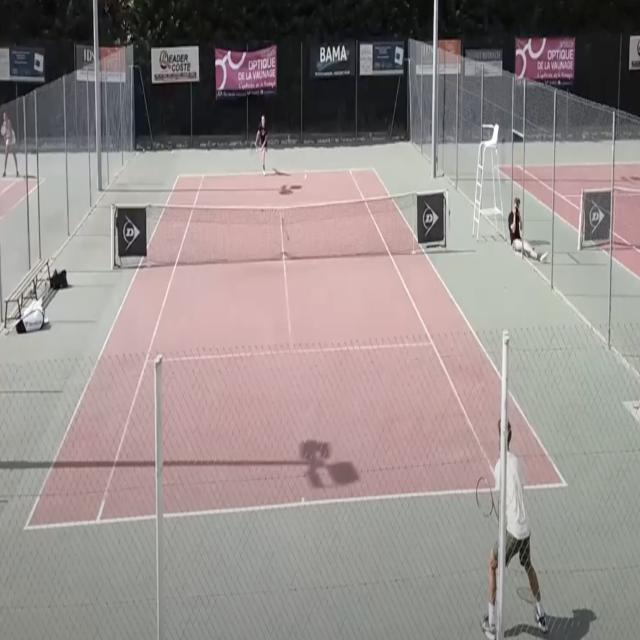ball: (305, 174, 307, 180)
